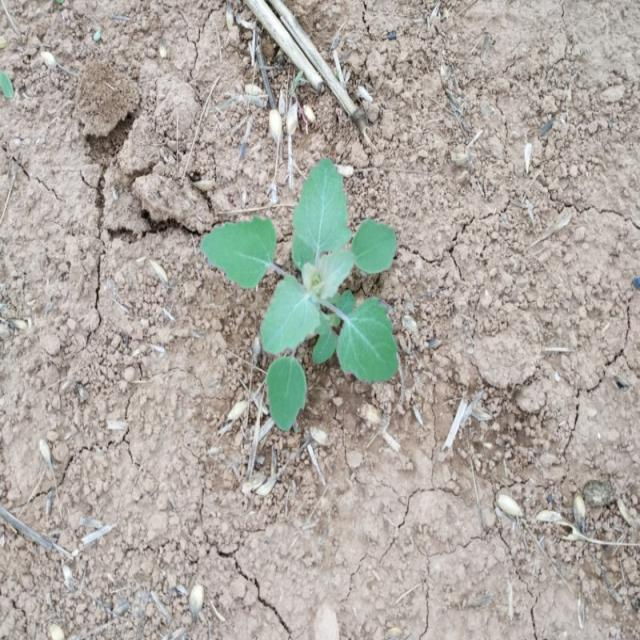goosefoots: (204, 172, 398, 423)
